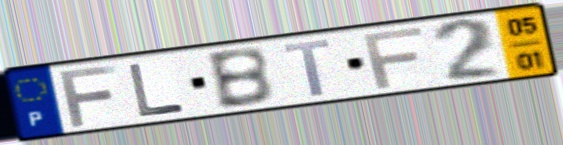2: (430, 16, 507, 86)
B: (202, 44, 278, 112)
F: (359, 25, 426, 90), (55, 63, 119, 129)
L: (125, 61, 189, 118)
T: (280, 37, 334, 99)
